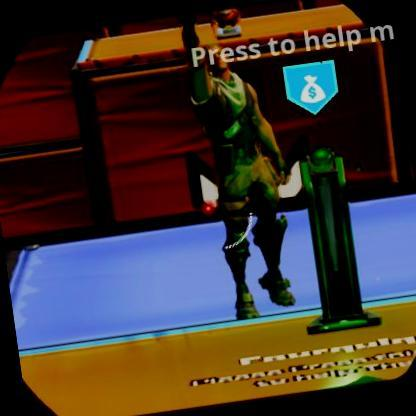person: (177, 52, 293, 311)
